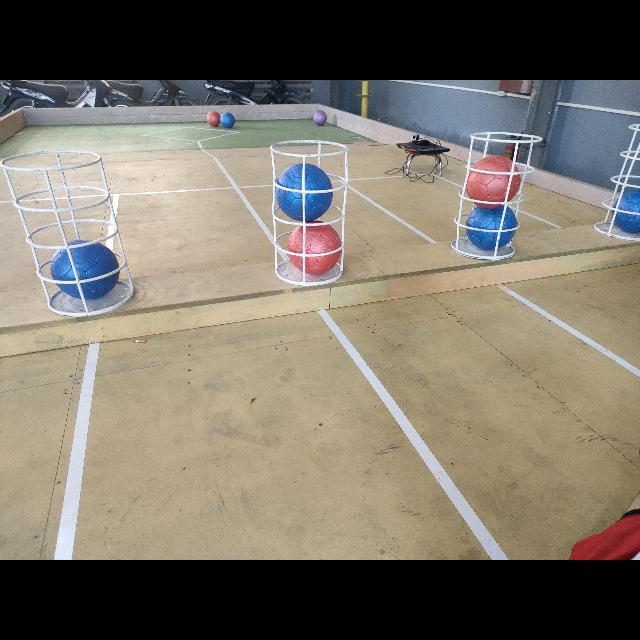B: (50, 240, 121, 300), (276, 163, 334, 220), (464, 204, 518, 250), (610, 188, 640, 235), (221, 112, 235, 128)
R: (288, 220, 342, 274), (468, 155, 520, 209), (206, 110, 220, 126)
